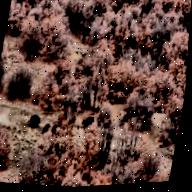boar: (25, 107, 42, 132), (39, 115, 52, 135), (76, 112, 91, 129), (65, 111, 78, 129), (86, 114, 96, 125)
